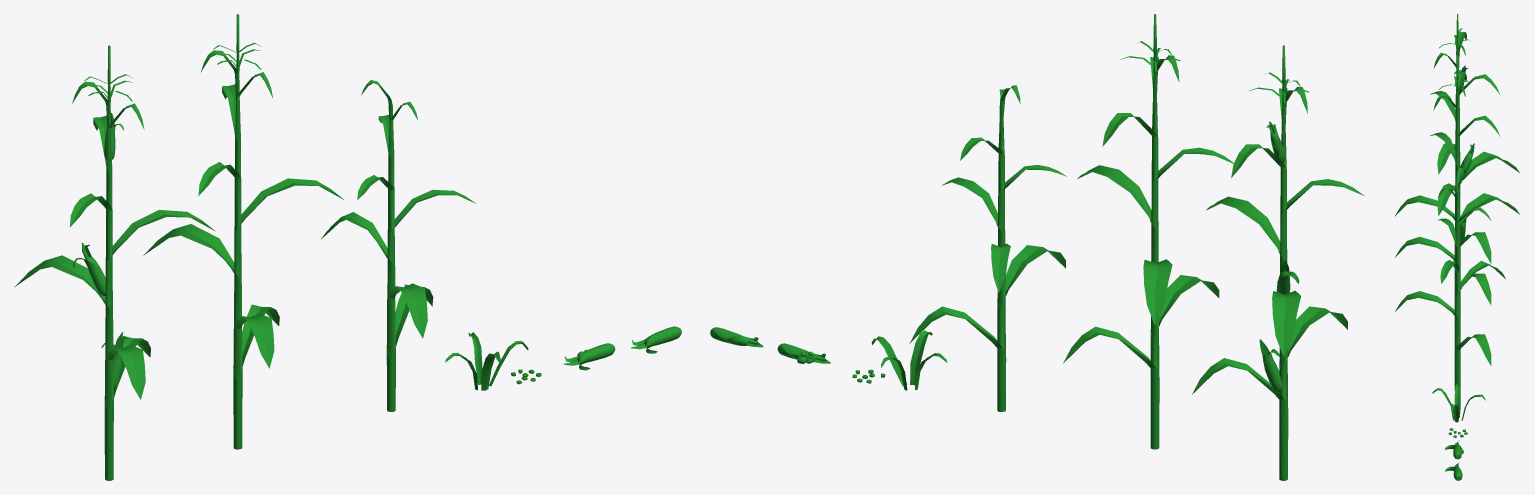
File: CornTexturingFile.fbx
3 views of the same model, side by side, from view 1: azimuth 30°, elevation 25°; view 2: azimuth 150°, elevation 25°; view 3: azimuth 270°, elevation 25° (orthographic). The views are drawn at different scales.
Parts seen in each view (by area): view 1: SM_Corn_Growing4, SM_Corn_Growing3, SM_Corn_Growing2, SM_Corn_Growing1; view 2: SM_Corn_Growing4, SM_Corn_Growing3, SM_Corn_Growing2, SM_Corn_Growing1; view 3: SM_Corn_Growing3, SM_Corn_Growing2, SM_Corn_Growing4, SM_Corn_Growing1, SM_Corn_CobSmut, SM_Corn_Cob.
Part boxes in pixels (x1,y1,x2,y2): SM_Corn_Growing4: (14, 45, 215, 480); SM_Corn_Growing3: (143, 14, 343, 449); SM_Corn_Growing2: (321, 80, 475, 411); SM_Corn_Growing1: (445, 332, 528, 390); SM_Corn_Growing4: (1192, 45, 1364, 480); SM_Corn_Growing3: (1063, 14, 1233, 449); SM_Corn_Growing2: (909, 85, 1066, 411); SM_Corn_Growing1: (871, 330, 947, 390); SM_Corn_Growing3: (1395, 55, 1519, 340); SM_Corn_Growing2: (1395, 168, 1505, 390); SM_Corn_Growing4: (1394, 14, 1519, 281); SM_Corn_Growing1: (1432, 384, 1485, 422); SM_Corn_CobSmut: (1445, 440, 1463, 459); SM_Corn_Cob: (1445, 462, 1462, 480).
Size of the model in its own units: 325 by 213 by 85.14.
